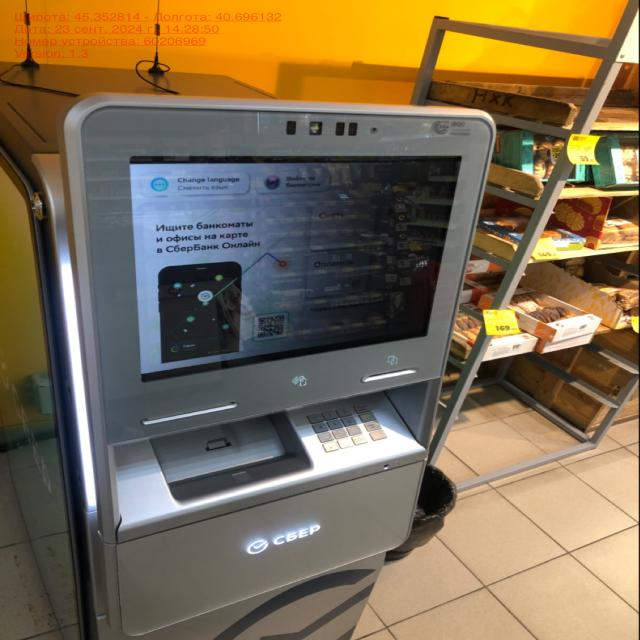bank: (0, 63, 496, 640)
